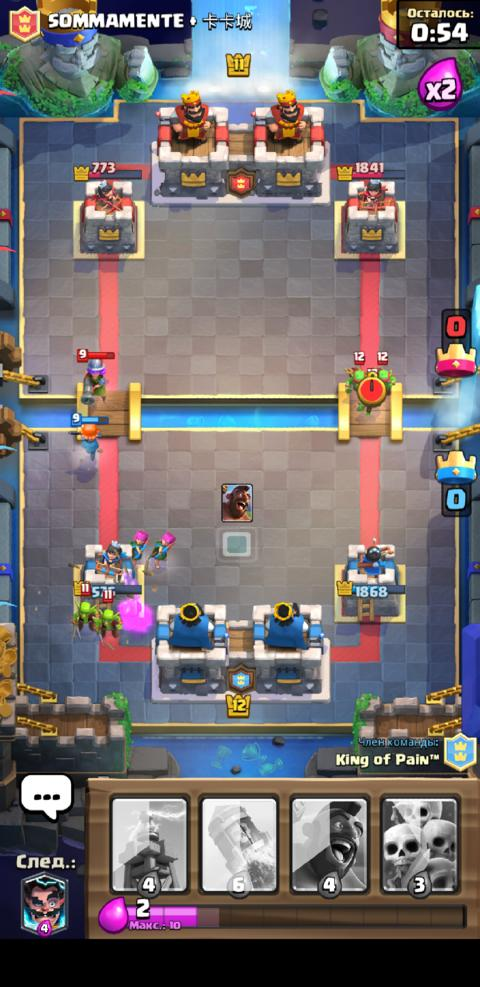ally_valkyrie: (68, 410, 108, 464)
enemy_goblin: (69, 582, 97, 637), (96, 587, 123, 639)
enemy_musketeer: (73, 347, 115, 405)
enemy_spear_goblin: (343, 349, 366, 397), (355, 368, 378, 416), (375, 349, 395, 394)
